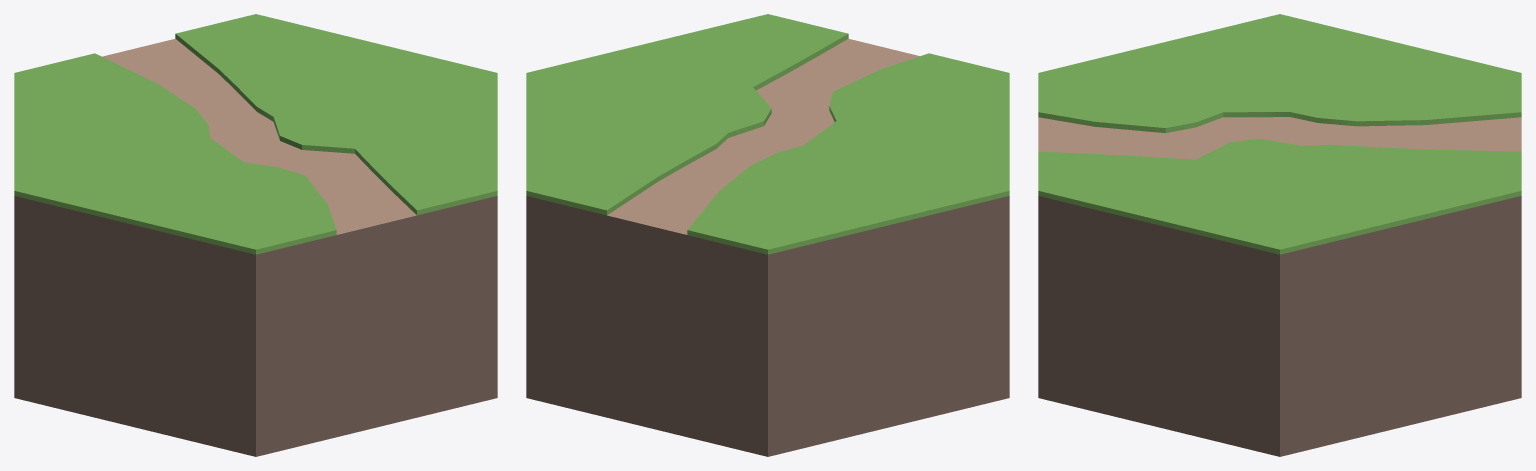
The model's file is Tile_Road.fbx.
The picture shows the model from 3 angles, left to right: view 1: azimuth 30°, elevation 25°; view 2: azimuth 150°, elevation 25°; view 3: azimuth 270°, elevation 25°; orthographic projection.
Parts seen in each view (by area): view 1: Tile_Road4; view 2: Tile_Road4; view 3: Tile_Road4.
Boxes of the visible parts, <box> form: Tile_Road4: <box>14,14,497,456</box>; Tile_Road4: <box>526,14,1009,456</box>; Tile_Road4: <box>1038,14,1521,456</box>.
Size of the model in its own units: 2 by 0.82 by 1.73.
